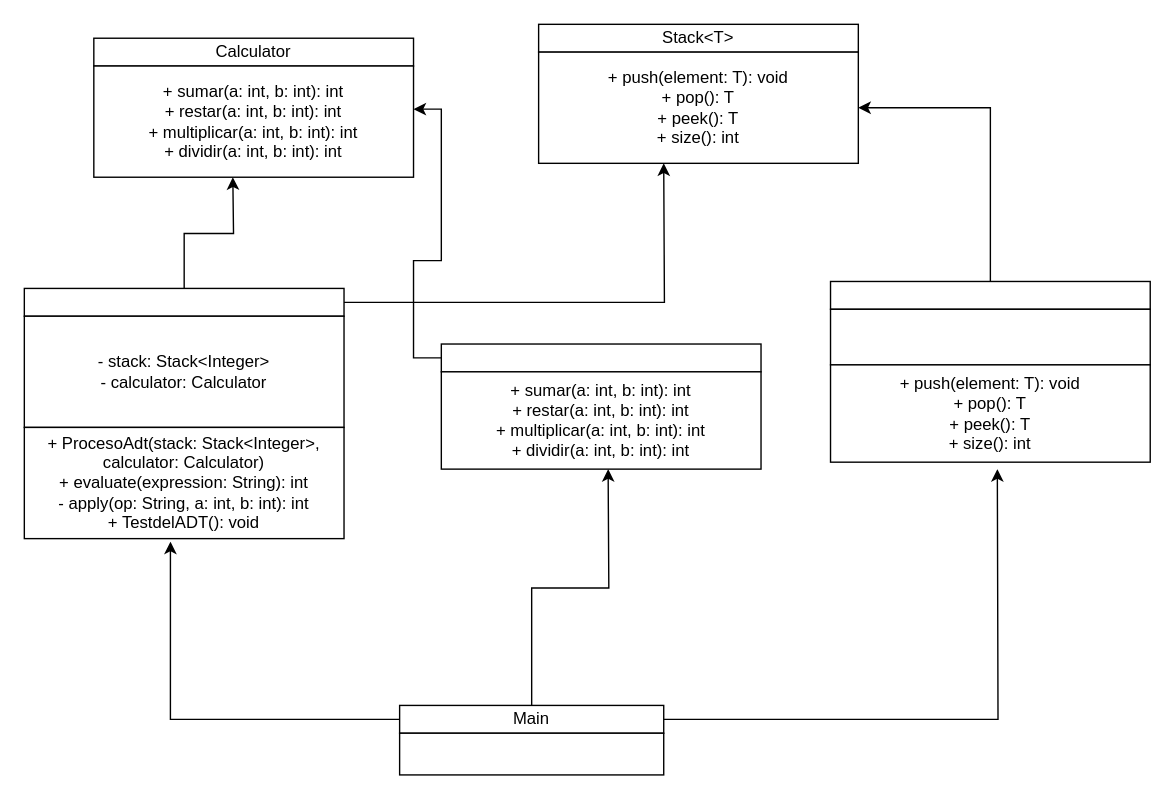
Some shapes in this 1175 by 799 pixel diagram are drawn without their labels. The box of each missing label's shape, as (x1, y1, x2, y2) in pixels:
- data: ArrayList<T>: (829, 308, 1150, 365)
ArrayStack<T>: (829, 280, 1150, 309)
Calc: (440, 343, 761, 372)
main(args : String() : void: (398, 732, 664, 775)
ProcesoADT: (23, 287, 344, 316)
